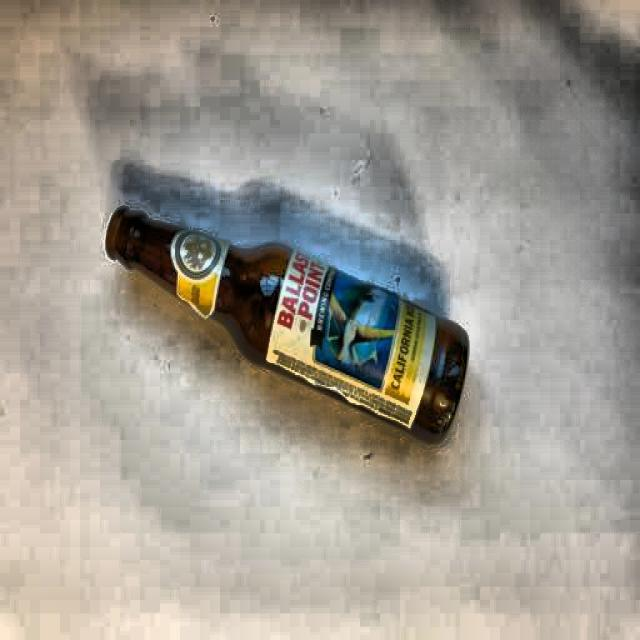glass: (105, 198, 471, 451)
